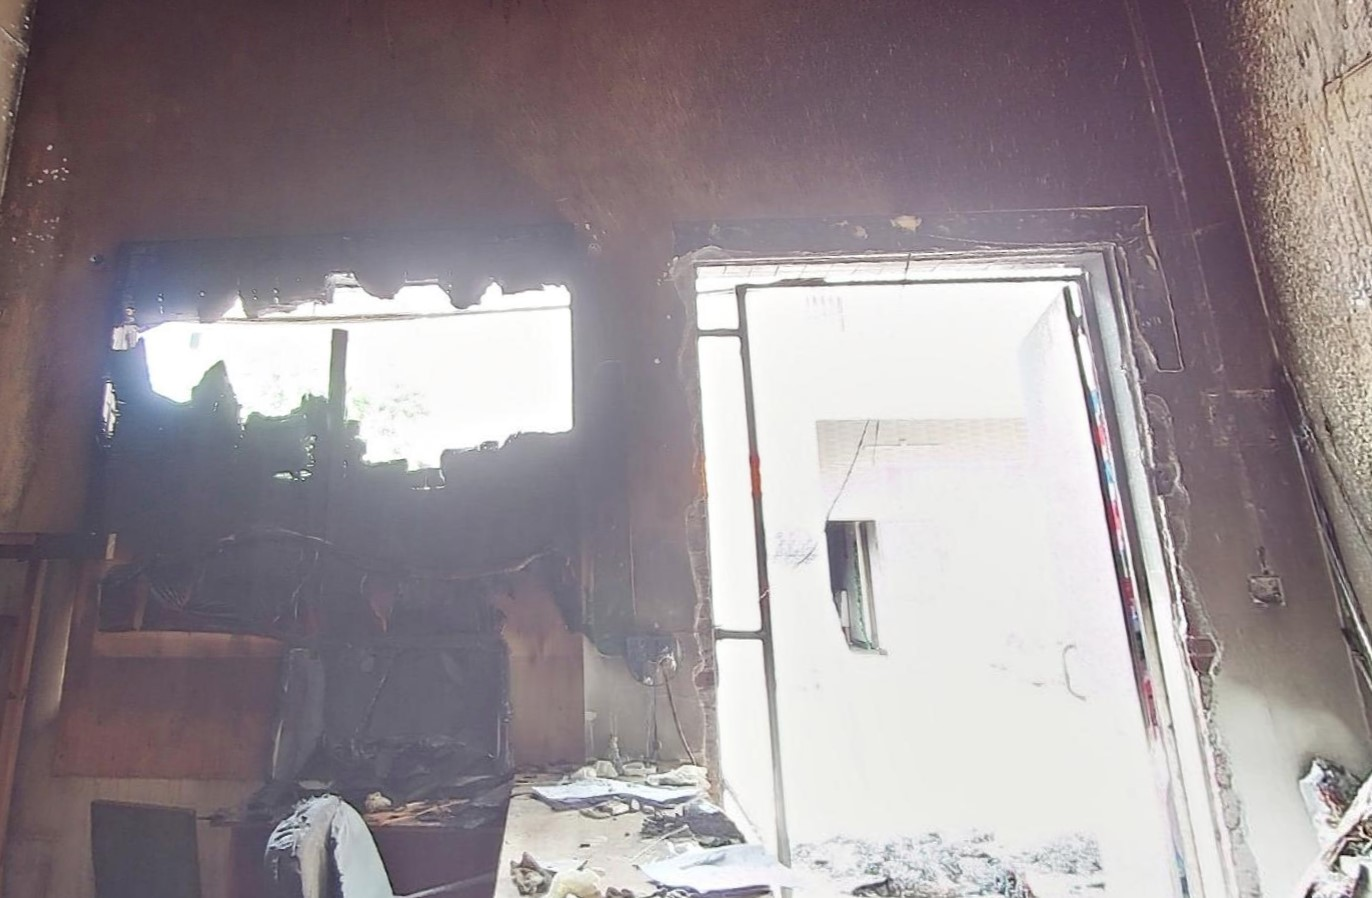Damage_level1: (91, 33, 1147, 192), (1166, 429, 1330, 685), (567, 232, 687, 529), (85, 663, 274, 759), (16, 309, 92, 502), (510, 605, 583, 767), (14, 25, 69, 117), (641, 541, 691, 629)
Damage_level2: (1197, 13, 1367, 422), (6, 128, 82, 279)
